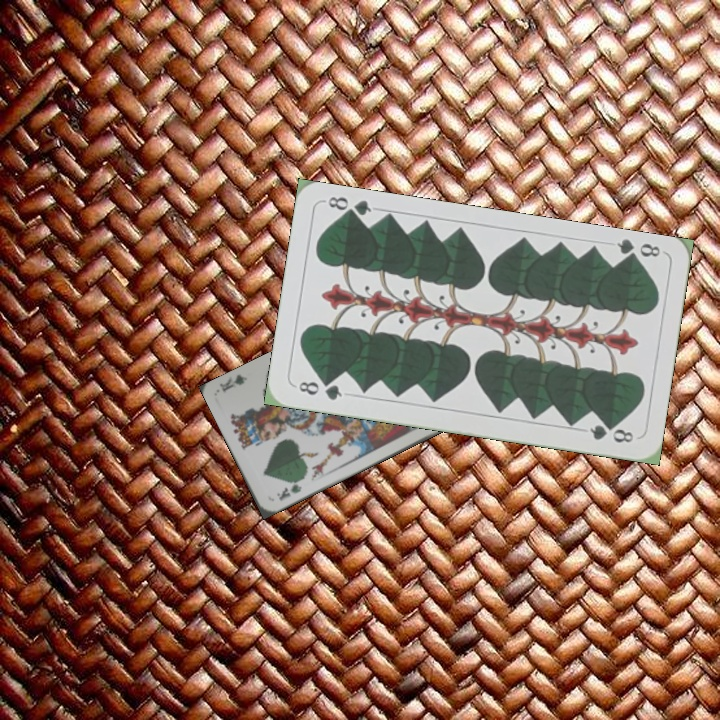G8: (613, 235, 663, 266), (294, 377, 345, 403)
GK: (272, 475, 305, 504)
